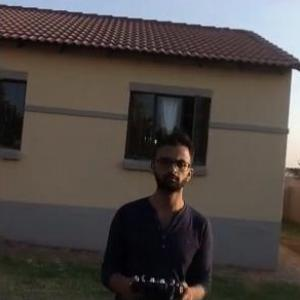follow: (99, 126, 220, 299)
